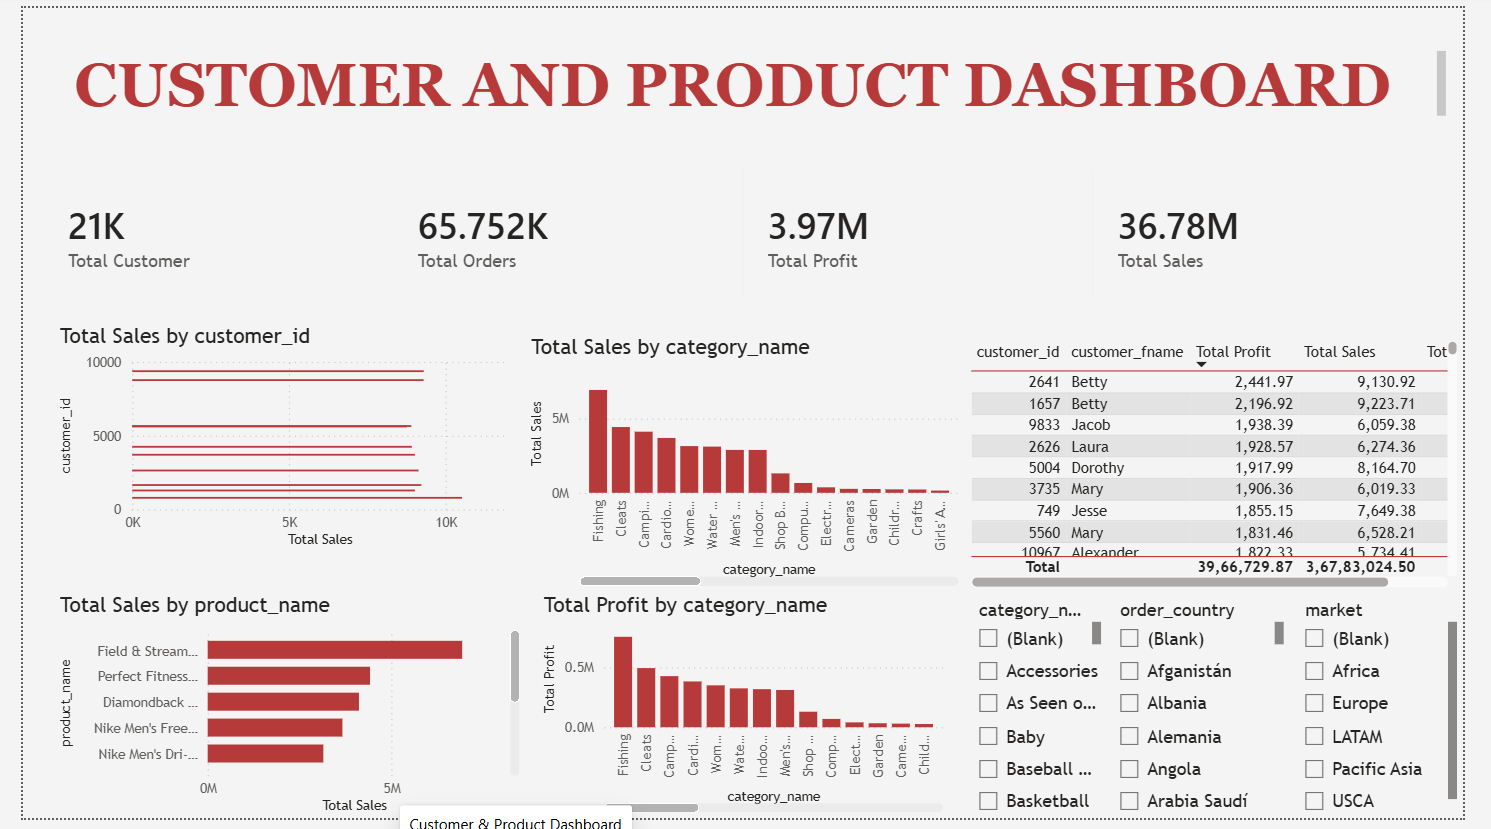

This screenshot's page, from the dashboard's own definition file:
{"tool":"powerbi","page":{"name":"Customer & Product Dashboard","canvas":[1280,720],"ordinal":2},"visuals":[{"type":"cardVisual","fields":{"Data":["logistics fact_orders.Total Customer","logistics fact_orders.Total Orders","logistics fact_orders.Total Profit","logistics fact_orders.Total Sales"]},"box":[10,123.8,1270,156.2],"z":0},{"type":"clusteredBarChart","fields":{"Y":["logistics fact_orders.Total Sales"],"Category":["logistics dim_customers.customer_fname"]},"box":[27.5,280,418.8,203.8],"z":1000},{"type":"clusteredBarChart","fields":{"Category":["logistics dim_products.product_name"],"Y":["logistics fact_orders.Total Sales"]},"box":[27.5,518.8,418.8,201.2],"z":2000},{"type":"clusteredColumnChart","fields":{"Category":["logistics dim_products.category_name"],"Y":["logistics fact_orders.Total Sales"]},"box":[446.2,290,390,228.8],"z":3000},{"type":"clusteredColumnChart","fields":{"Category":["logistics dim_products.category_name"],"Y":["logistics fact_orders.Total Profit"]},"box":[457.5,518.8,365,201.2],"z":4000},{"type":"tableEx","fields":{"Values":["logistics dim_customers.customer_id","logistics dim_customers.customer_fname","logistics fact_orders.Total Profit","logistics fact_orders.Total Sales","logistics fact_orders.Total Orders"]},"box":[836.2,291.2,443.8,228.8],"z":5000},{"type":"slicer","fields":{"Values":["logistics dim_products.category_name"]},"box":[836.2,520,126.2,200],"z":6000},{"type":"slicer","fields":{"Values":["logistics dim_locations.order_country"]},"box":[962.5,520,163.8,200],"z":7000},{"type":"slicer","fields":{"Values":["logistics dim_locations.market"]},"box":[1127,520,153,200],"z":8000},{"type":"textbox","box":[0,33.8,1270,76.2],"z":8001}]}

Visuals, with their boxes in screenshot pixels (x1, y1, x2, y2), scaled from the page's 1280x720 canvas onto the 1491x829 screenshot:
cardVisual - logistics fact_orders.Total Customer x logistics fact_orders.Total Orders: [12,143,1490,322]
clusteredBarChart - logistics fact_orders.Total Sales x logistics dim_customers.customer_fname: [32,322,520,557]
clusteredBarChart - logistics dim_products.product_name x logistics fact_orders.Total Sales: [32,597,520,828]
clusteredColumnChart - logistics dim_products.category_name x logistics fact_orders.Total Sales: [520,334,974,597]
clusteredColumnChart - logistics dim_products.category_name x logistics fact_orders.Total Profit: [533,597,958,828]
tableEx - logistics dim_customers.customer_id x logistics dim_customers.customer_fname: [974,335,1490,599]
slicer - logistics dim_products.category_name: [974,599,1121,828]
slicer - logistics dim_locations.order_country: [1121,599,1312,828]
slicer - logistics dim_locations.market: [1313,599,1490,828]
textbox: [0,39,1479,127]
